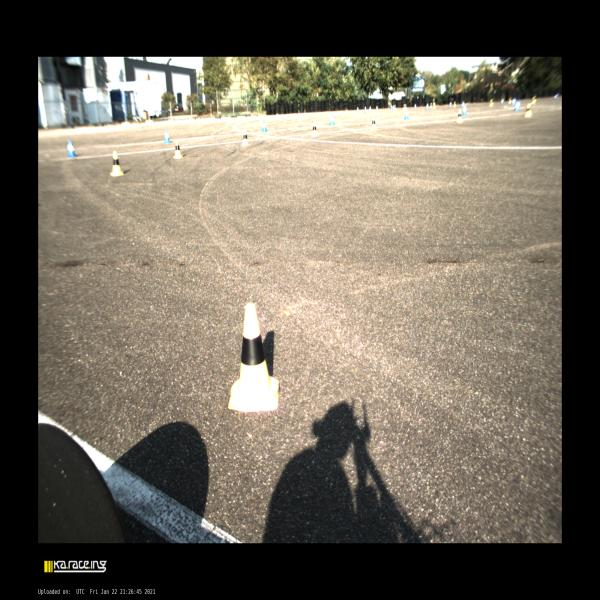blue_cone: (67, 141, 76, 157), (164, 129, 170, 143), (329, 114, 335, 125), (262, 120, 267, 132), (514, 102, 519, 111), (462, 106, 467, 115), (404, 110, 408, 119), (426, 103, 429, 110), (356, 106, 359, 112), (461, 102, 464, 108), (364, 106, 367, 111), (392, 105, 395, 110), (414, 103, 416, 109), (512, 100, 514, 106), (369, 105, 371, 110), (501, 99, 503, 104), (376, 106, 378, 110)
yellow_cone: (229, 303, 278, 411), (110, 151, 124, 176), (173, 140, 182, 158), (241, 131, 249, 145), (456, 109, 463, 123), (524, 104, 531, 118), (312, 123, 318, 137), (371, 117, 377, 130), (508, 98, 511, 104), (430, 103, 432, 109), (433, 103, 435, 109), (454, 102, 456, 108), (490, 100, 492, 106), (532, 98, 534, 104), (405, 104, 407, 109)
